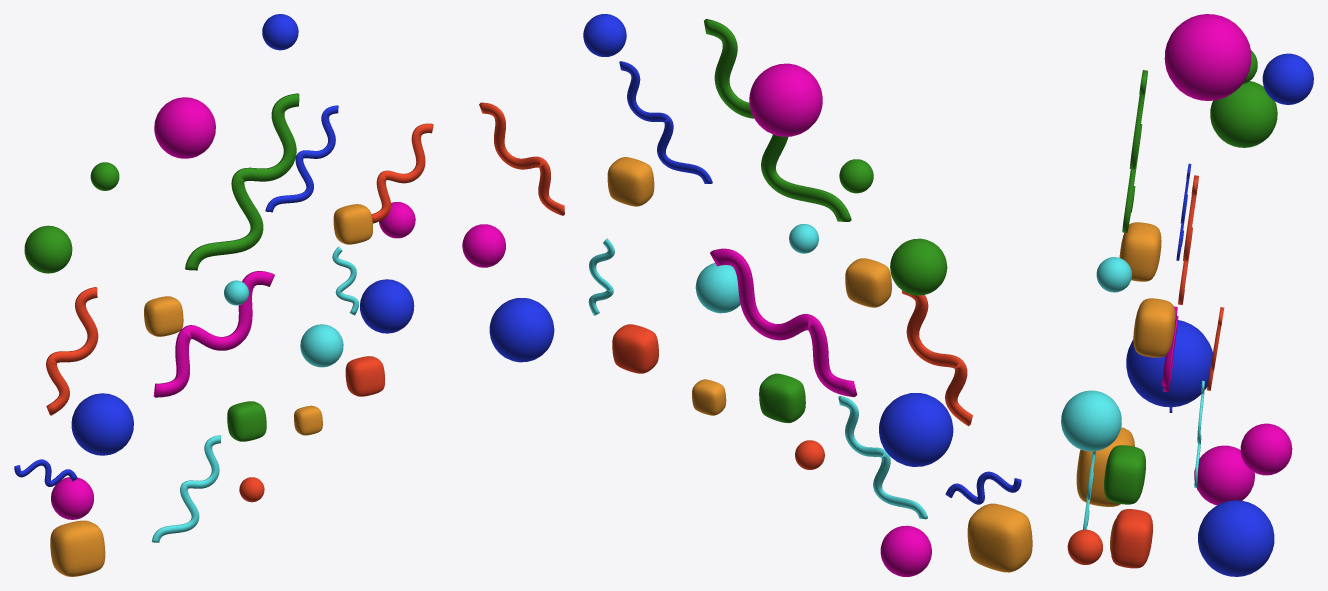
File: confetti.glb
3 renders of one model, left to right at view 1: azimuth 30°, elevation 25°; view 2: azimuth 150°, elevation 25°; view 3: azimuth 270°, elevation 25°, orthographic. The views are drawn at different scales.
Parts seen in each view (by area): view 1: NurbsPath.001, Sphere.003, Sphere, NurbsPath.002, Cube, Sphere.002, NurbsPath.004, Sphere.010, Sphere.007, Sphere.004, NurbsPath.006, NurbsPath.005 (+11 smaller); view 2: Sphere.003, Sphere, NurbsPath.002, NurbsPath.001, Cube, Sphere.002, Sphere.010, NurbsPath.004, Sphere.004, Cube.003, Cube.005, Cube.001 (+13 smaller); view 3: Sphere, Sphere.002, Sphere.003, Sphere.010, Sphere.007, Sphere.004, Cube.003, Cube.004, Cube.005, Sphere.009, Sphere.001, Cube.001 (+10 smaller).
Boxes of the visible parts, x1,y1,x2,y2 form: NurbsPath.001: (185, 93, 299, 270); Sphere.003: (71, 393, 133, 455); Sphere: (154, 97, 215, 158); NurbsPath.002: (153, 271, 274, 397); Cube: (50, 520, 105, 576); Sphere.002: (360, 279, 414, 333); NurbsPath.004: (46, 287, 98, 415); Sphere.010: (24, 225, 72, 273); Sphere.007: (300, 324, 343, 367); Sphere.004: (51, 477, 93, 519); NurbsPath.006: (371, 123, 433, 223); NurbsPath.005: (265, 105, 338, 212); Sphere.003: (879, 393, 953, 466); Sphere: (749, 63, 822, 136); NurbsPath.002: (710, 248, 857, 397); NurbsPath.001: (704, 19, 851, 221); Cube: (967, 503, 1032, 572); Sphere.002: (489, 298, 554, 362); Sphere.010: (890, 238, 947, 295); NurbsPath.004: (902, 290, 972, 426); Sphere.004: (880, 525, 931, 576); Cube.003: (607, 157, 654, 206); Cube.005: (612, 324, 658, 373); Cube.001: (845, 258, 891, 307); Sphere: (1164, 14, 1251, 100); Sphere.002: (1198, 500, 1274, 576); Sphere.003: (1126, 320, 1212, 407); Sphere.010: (1210, 81, 1277, 147); Sphere.007: (1061, 390, 1121, 451); Sphere.004: (1194, 445, 1254, 505); Cube.003: (1133, 298, 1175, 357); Cube.004: (1104, 445, 1145, 504); Cube.005: (1111, 509, 1152, 568); Sphere.009: (1240, 423, 1292, 475); Sphere.001: (1262, 53, 1313, 104); Cube.001: (1119, 222, 1161, 281).
Bounding box in the file's own units: 2.38 × 2.32 × 0.8462.
